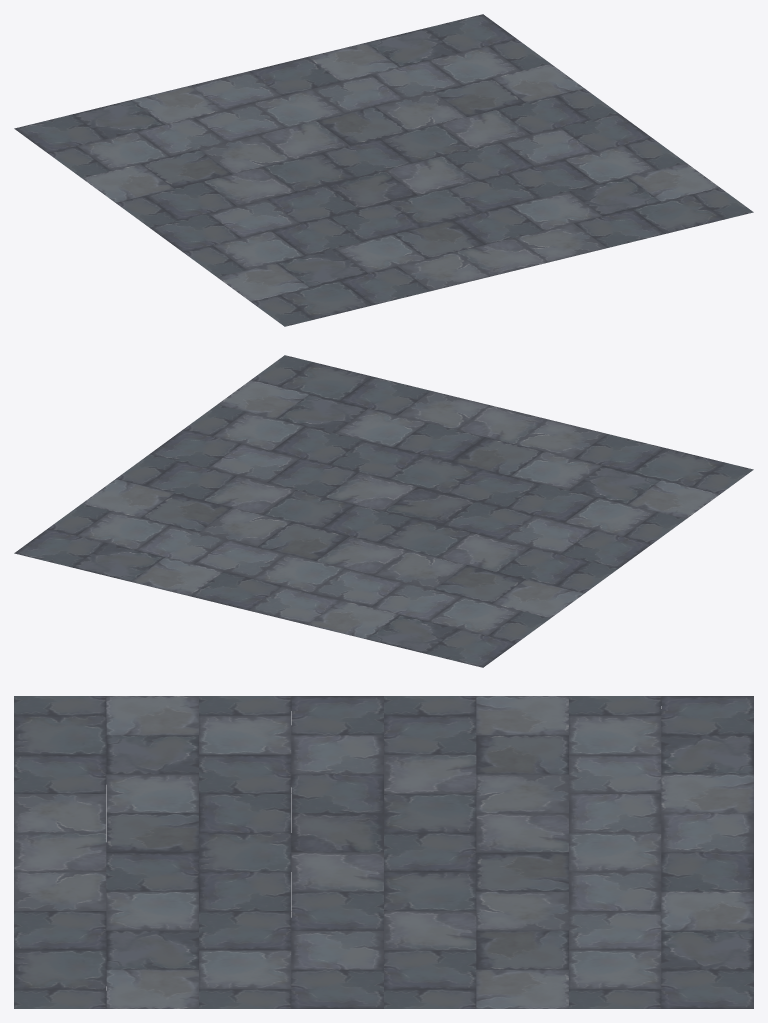
Rendered from Castle Ground X Mix 8x8.fbx.
The picture shows the model from 3 angles, top to bottom: view 1: azimuth 30°, elevation 25°; view 2: azimuth 150°, elevation 25°; view 3: azimuth 270°, elevation 25°; orthographic projection. The views are drawn at different scales.
Visible parts, largest first — view 1: Castle Ground X Mix 8x8; view 2: Castle Ground X Mix 8x8; view 3: Castle Ground X Mix 8x8.
Boxes of the visible parts, left/top/right/bottom form: Castle Ground X Mix 8x8: left=14, top=14, right=753, bottom=326; Castle Ground X Mix 8x8: left=14, top=355, right=753, bottom=667; Castle Ground X Mix 8x8: left=14, top=696, right=753, bottom=1008.
Bounding box in the file's own units: 6 × 1.35e-06 × 6.
